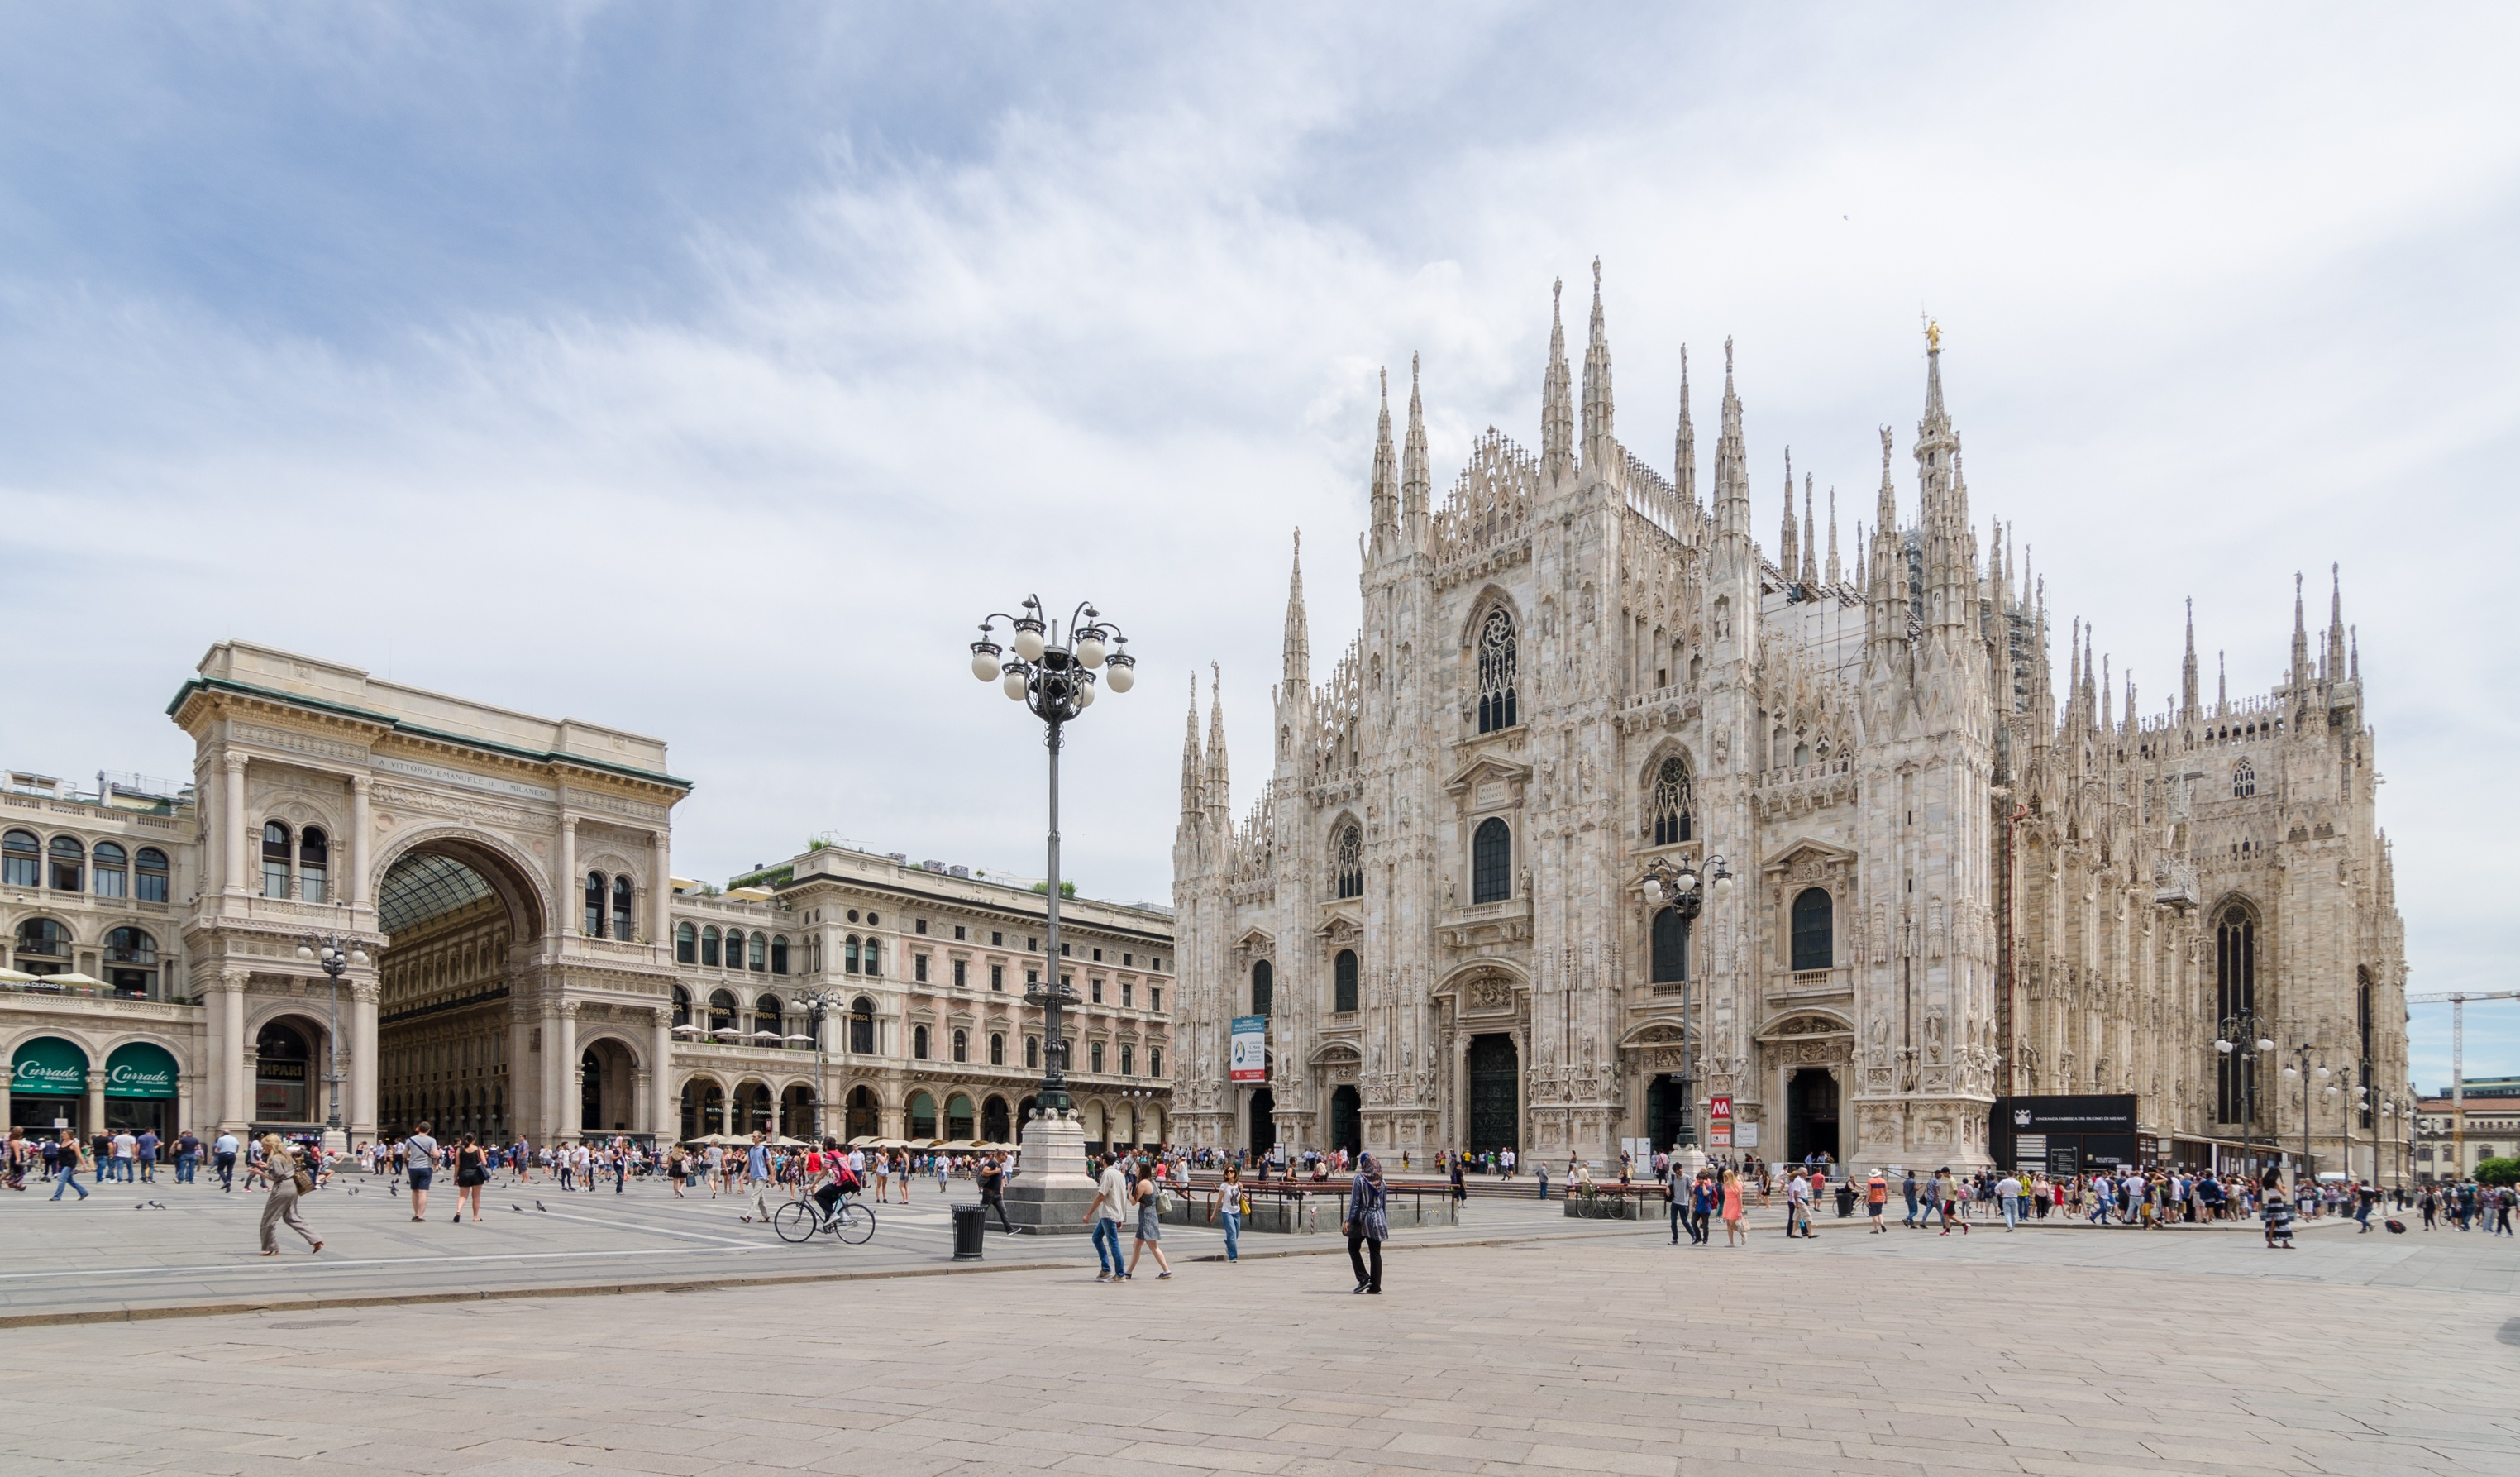Pigeon: (148, 1199, 167, 1211), (532, 1199, 547, 1213), (511, 1203, 522, 1213), (134, 1203, 146, 1211), (388, 1189, 397, 1197), (499, 1182, 508, 1190), (214, 1176, 223, 1183), (237, 1176, 246, 1183), (251, 1176, 260, 1183), (353, 1185, 360, 1194), (492, 1175, 499, 1182), (348, 1189, 353, 1196), (341, 1176, 346, 1183), (358, 1178, 366, 1183), (387, 1185, 397, 1189), (388, 1178, 394, 1185), (394, 1178, 399, 1185), (438, 1178, 445, 1183), (446, 1176, 453, 1182), (534, 1180, 541, 1185), (652, 1176, 657, 1183), (547, 1176, 555, 1180), (339, 1171, 344, 1176), (510, 1178, 515, 1183), (599, 1178, 605, 1183), (661, 1176, 666, 1182), (891, 1180, 896, 1185), (910, 1176, 916, 1182), (613, 1182, 620, 1185), (636, 1178, 643, 1182), (207, 1178, 213, 1182), (529, 1176, 534, 1180), (557, 1178, 562, 1182), (638, 1176, 643, 1180), (866, 1185, 872, 1189), (873, 1178, 877, 1183), (1959, 1206, 1963, 1210), (1968, 1206, 1972, 1210)
